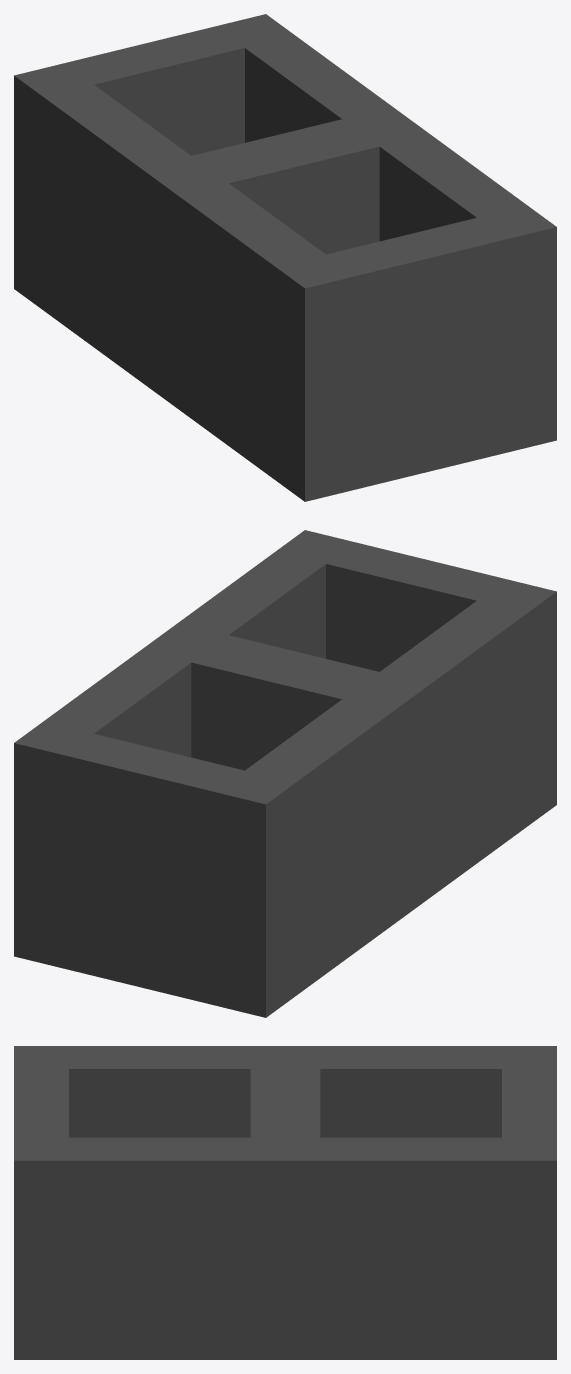
The model's file is Brick_1_2.fbx.
The picture shows the model from 3 angles, top to bottom: view 1: azimuth 30°, elevation 25°; view 2: azimuth 150°, elevation 25°; view 3: azimuth 270°, elevation 25°; orthographic projection. The views are drawn at different scales.
Parts seen in each view (by area): view 1: Brick_1_2; view 2: Brick_1_2; view 3: Brick_1_2.
Part boxes in pixels (<box>): Brick_1_2: <box>14,14,556,501</box>; Brick_1_2: <box>14,530,556,1017</box>; Brick_1_2: <box>14,1046,556,1359</box>.
Size of the model in its own units: 17.52 by 14.18 by 35.04.
